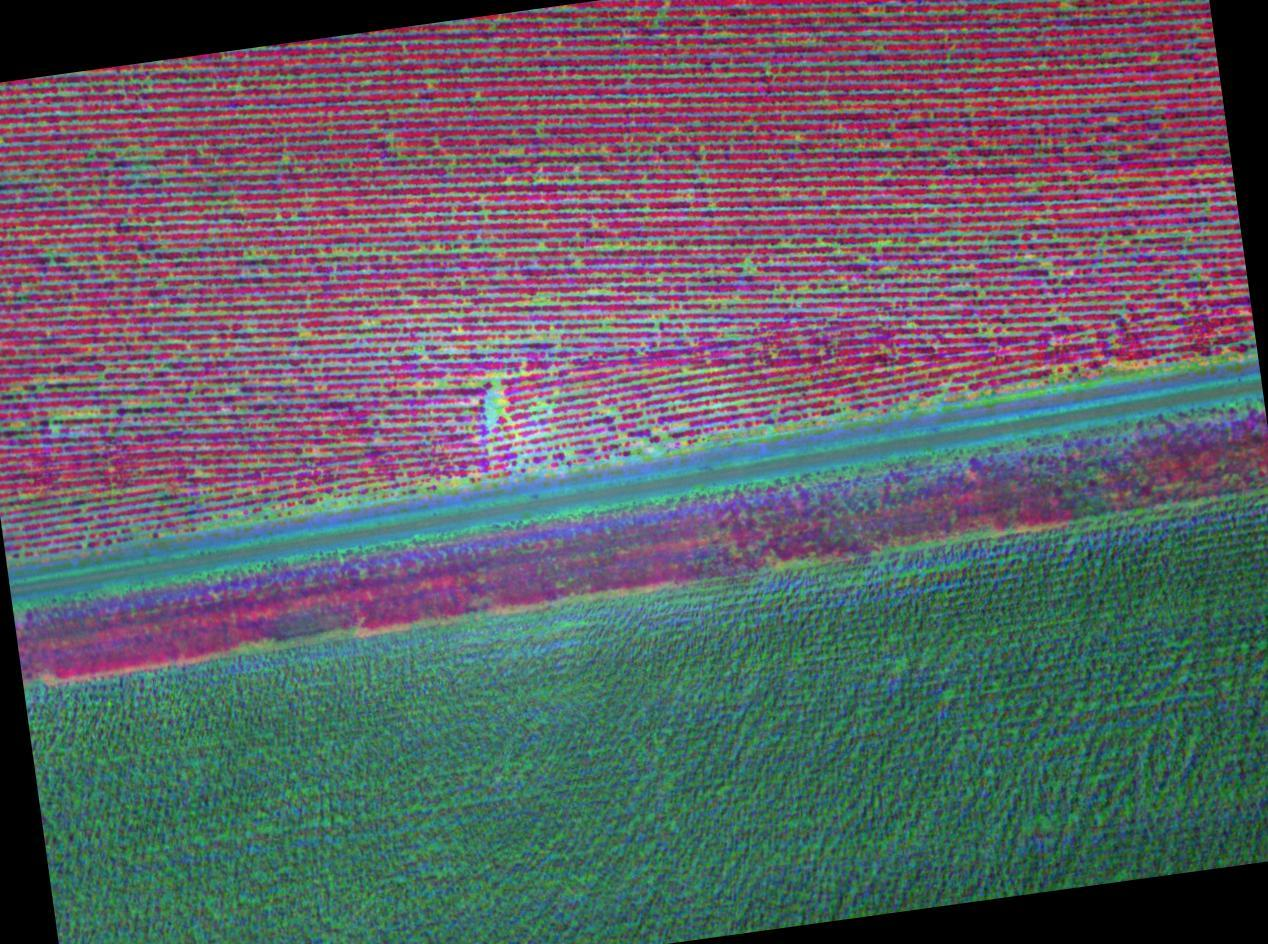dc: (483, 397, 506, 414), (744, 260, 755, 275), (535, 294, 548, 306), (1057, 313, 1067, 324), (53, 426, 61, 437), (1061, 3, 1069, 10)
